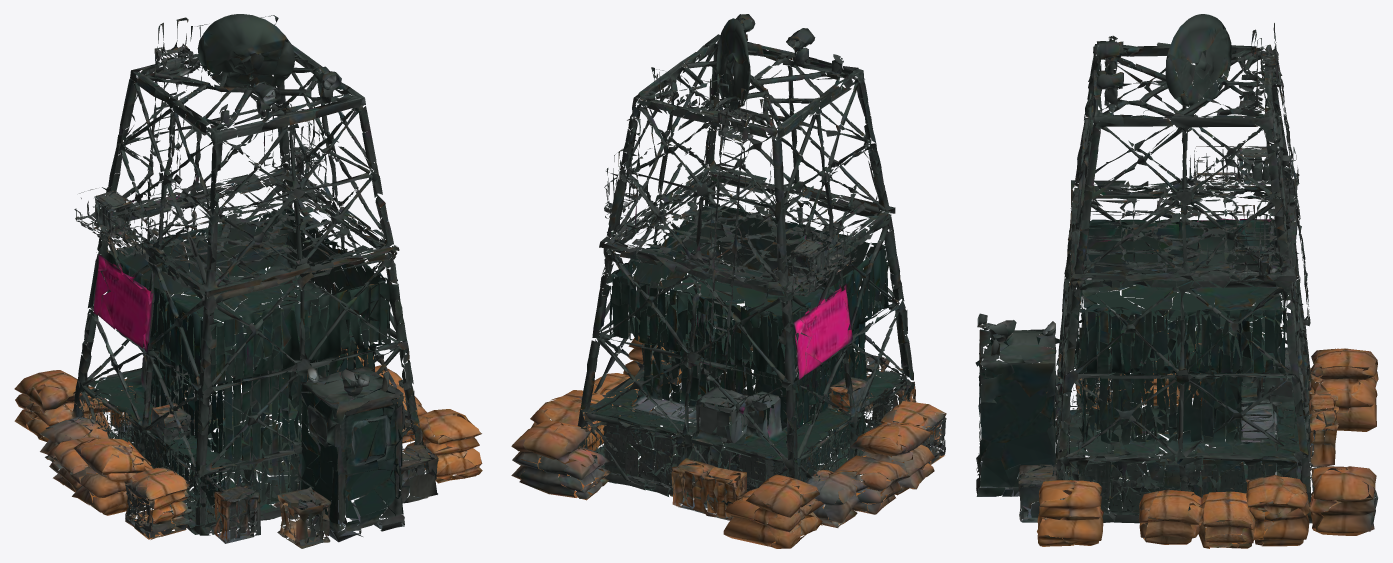
The model's file is radio_mast.glb.
The picture shows the model from 3 angles, left to right: view 1: azimuth 30°, elevation 25°; view 2: azimuth 150°, elevation 25°; view 3: azimuth 270°, elevation 25°; orthographic projection. The views are drawn at different scales.
Visible parts, largest first — view 1: Mesh_0; view 2: Mesh_0; view 3: Mesh_0.
Boxes of the visible parts, x1,y1,x2,y2 form: Mesh_0: (14, 14, 482, 548); Mesh_0: (511, 14, 946, 548); Mesh_0: (975, 14, 1378, 548).
Bounding box in the file's own units: 1.55 × 1.93 × 1.53.
1 material, 1 textured.
